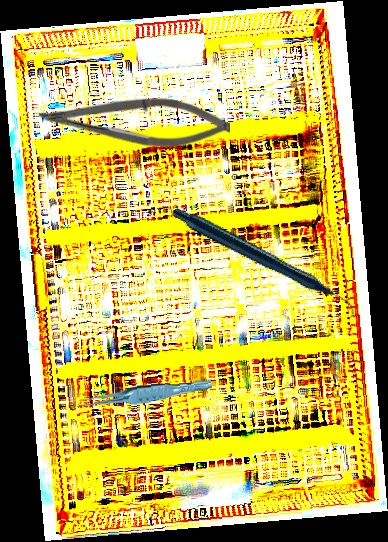Handpiece: (170, 157, 357, 368)
Micro Scissor: (39, 98, 230, 147)
Tissue Forceps: (75, 378, 213, 409)
